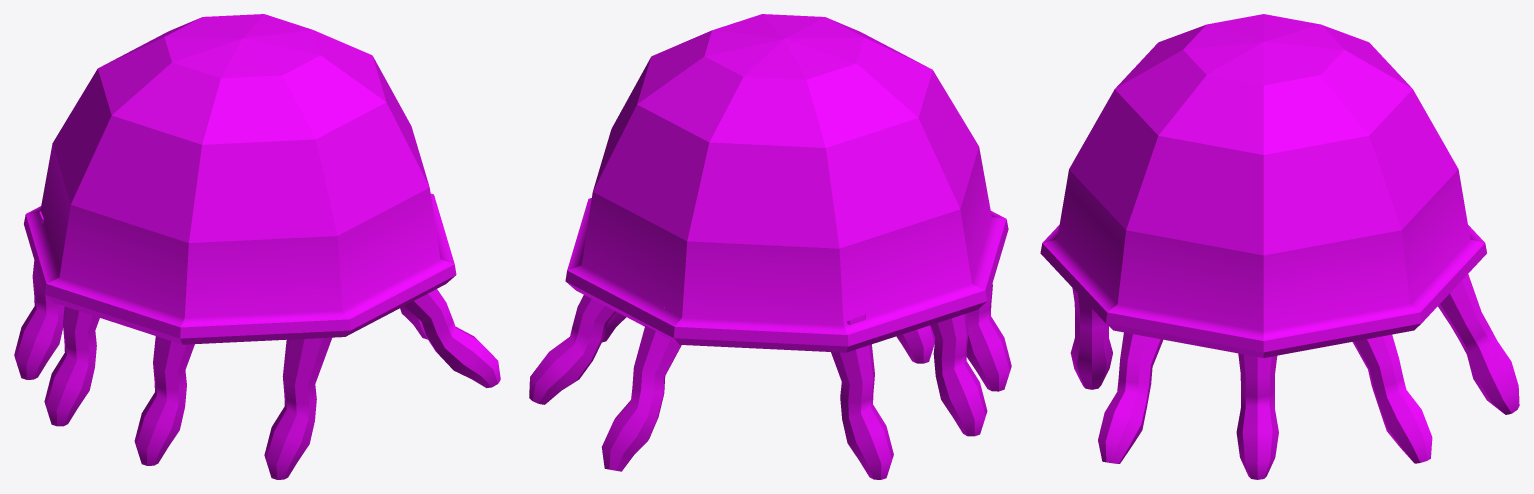
File: jellyfish.fbx
The picture shows the model from 3 angles, left to right: view 1: azimuth 30°, elevation 25°; view 2: azimuth 150°, elevation 25°; view 3: azimuth 270°, elevation 25°; orthographic projection. The views are drawn at different scales.
Visible parts, largest first — view 1: jellyfish; view 2: jellyfish; view 3: jellyfish.
Boxes of the visible parts, x1,y1,x2,y2 form: jellyfish: (14, 14, 500, 479); jellyfish: (529, 14, 1011, 479); jellyfish: (1040, 14, 1519, 479).
Bounding box in the file's own units: 273 × 241 × 284.
